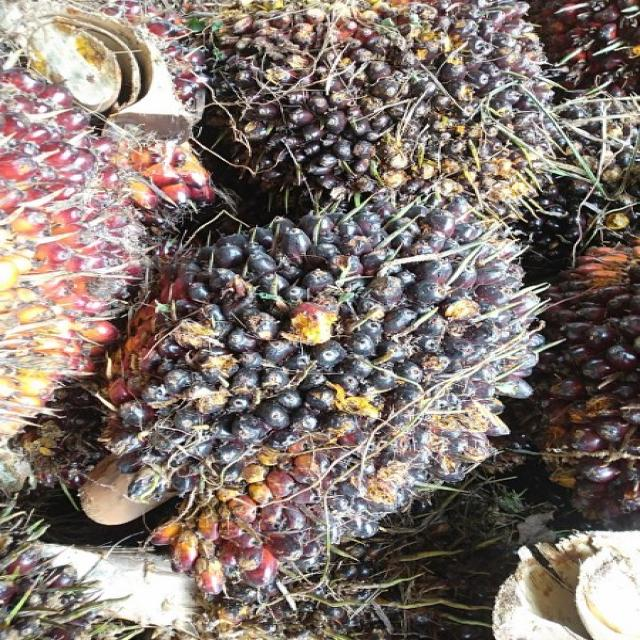fraksi 00: (110, 190, 552, 554)
